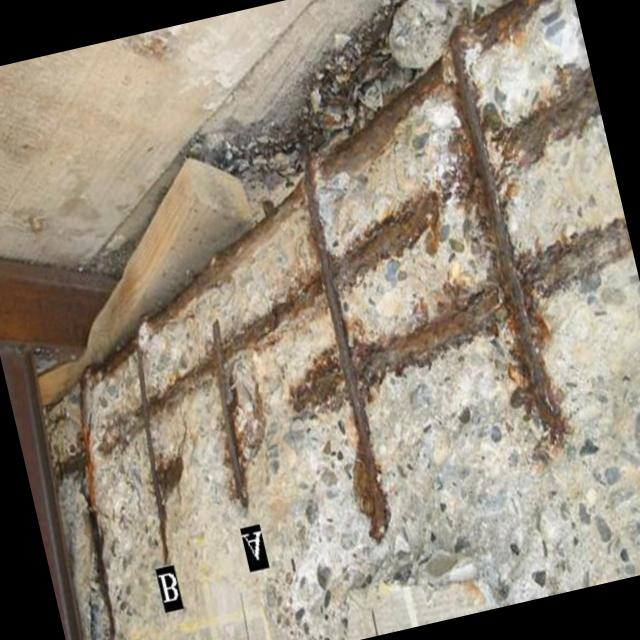spalling: (42, 0, 640, 640)
